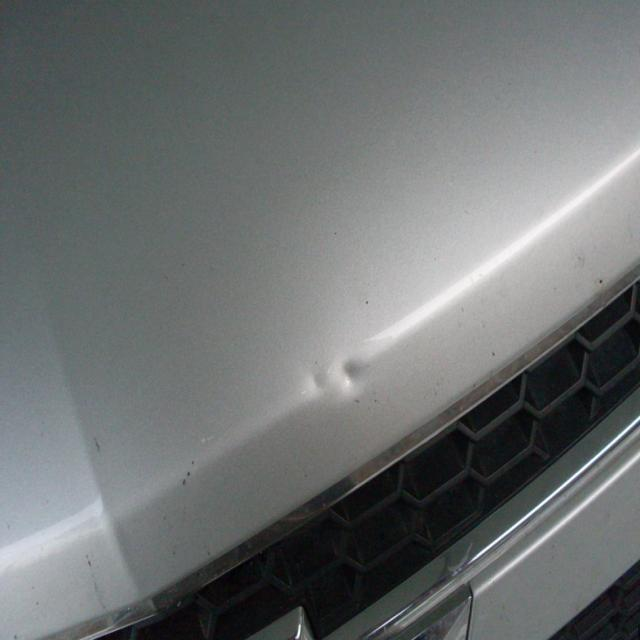dents: (298, 360, 334, 415), (339, 358, 373, 400)
